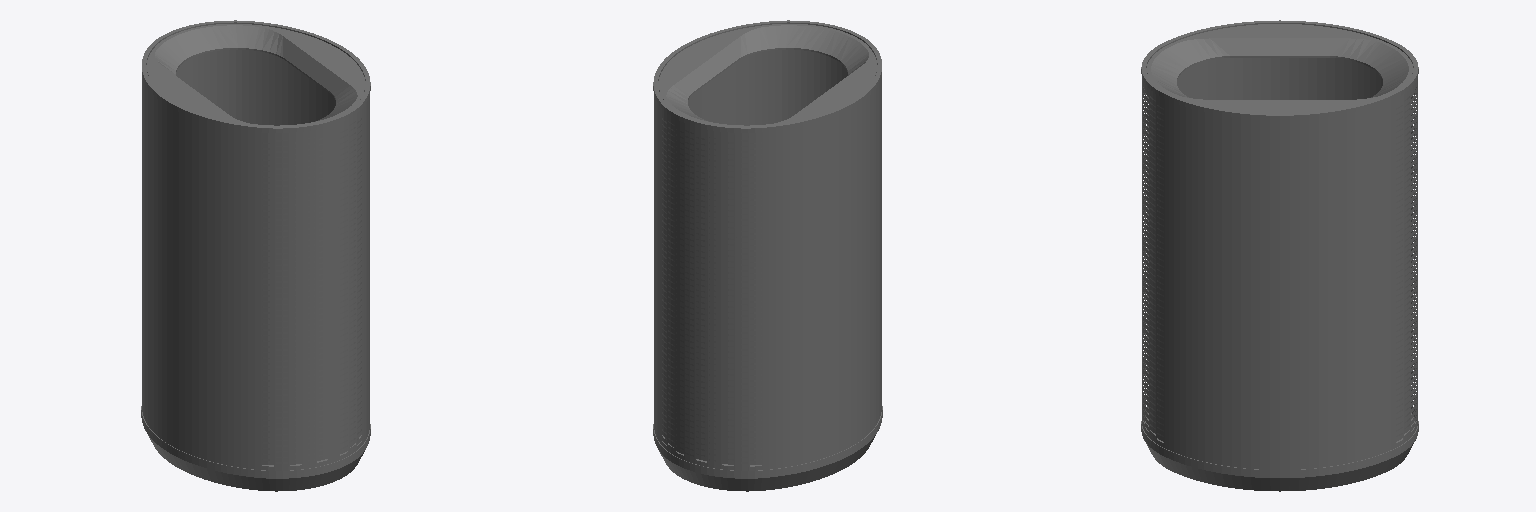
robot.urdf — object:
<?xml version="1.0"?>
<robot name="object">
  <link name="object">
    <visual>
      <origin xyz="0 0 0"/>
      <geometry>
        <mesh
          filename="../../mesh/oakink_virtual/bottle_s113.stl" />
      </geometry>
      <material name="mat">
        <color rgba="0.5 0.5 0.5 1"/>
      </material>
    </visual>

    <collision>
      <origin xyz="0 0 0"/>
      <geometry>
        <mesh
          filename="../../mesh/oakink_virtual/bottle_s113.stl" />
      </geometry>
    </collision>
  </link>
</robot>

--- Facts derived from the render (not from the file) ---
Views: 3 orthographic renders of the robot side by side, from view 1: azimuth 30°, elevation 25°; view 2: azimuth 150°, elevation 25°; view 3: azimuth 270°, elevation 25°.
Robot: object — 1 links, 0 joints (none); root link object; default pose: every joint at zero.
Links seen in each view (by area): view 1: object; view 2: object; view 3: object.
Link boxes in pixels (x1,y1,x2,y2): object: [141, 20, 370, 491]; object: [653, 20, 882, 491]; object: [1141, 20, 1418, 491].
Bounding box of the posed robot: 0.0771 × 0.0946 × 0.1429 m (x, y, z).
1 mesh visuals loaded from 1 distinct referenced files (1 binary STL).